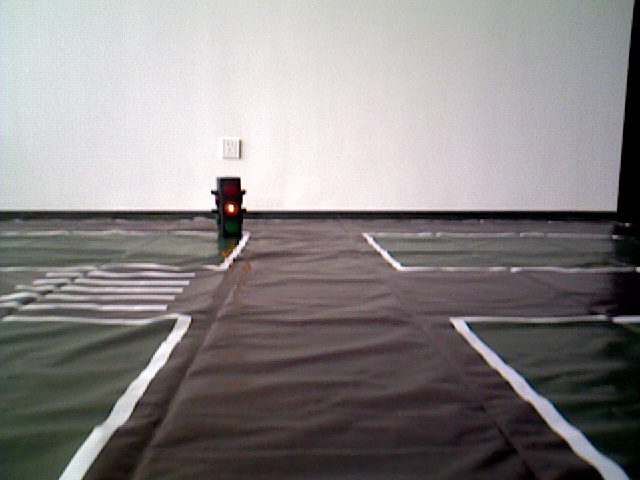yellow: (213, 175, 245, 238)
